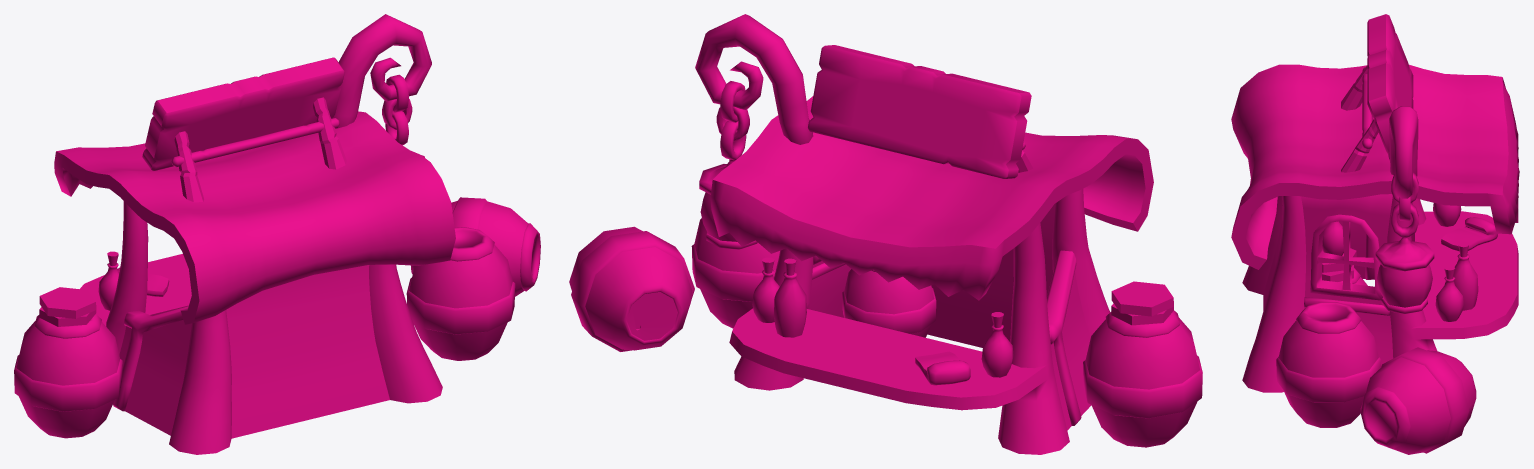
Rendered from SM_PRP_Shop.fbx.
The picture shows the model from 3 angles, left to right: view 1: azimuth 30°, elevation 25°; view 2: azimuth 150°, elevation 25°; view 3: azimuth 270°, elevation 25°; orthographic projection. The views are drawn at different scales.
Visible parts, largest first — view 1: m_Shop; view 2: m_Shop; view 3: m_Shop.
Boxes of the visible parts, <box> form: m_Shop: <box>14,14,540,454</box>; m_Shop: <box>569,14,1202,454</box>; m_Shop: <box>1231,14,1519,454</box>.
Size of the model in its own units: 1561 by 871 by 767.
